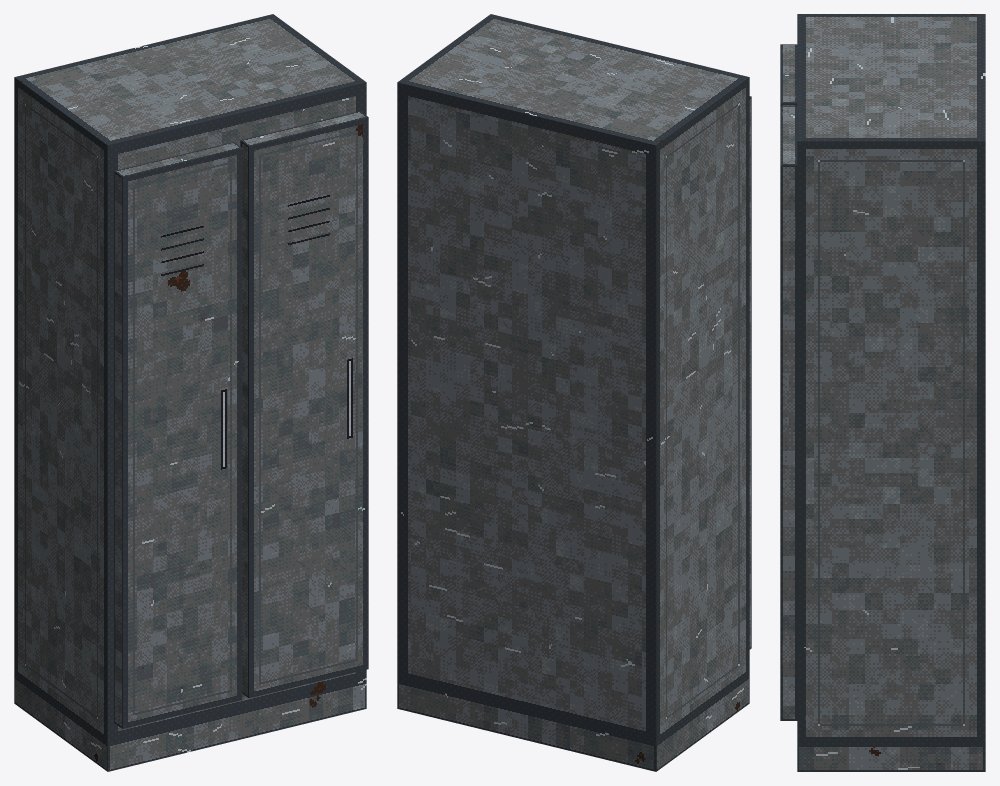
File: SM_Locker_Steel_01.glb
The picture shows the model from 3 angles, left to right: view 1: azimuth 30°, elevation 25°; view 2: azimuth 150°, elevation 25°; view 3: azimuth 270°, elevation 25°; orthographic projection.
Visible parts, largest first — view 1: SM_Locker_Steel_01; view 2: SM_Locker_Steel_01; view 3: SM_Locker_Steel_01.
Boxes of the visible parts, x1,y1,x2,y2 form: SM_Locker_Steel_01: [14, 14, 368, 771]; SM_Locker_Steel_01: [397, 14, 751, 771]; SM_Locker_Steel_01: [780, 14, 985, 771].
Size of the model in its own units: 0.8 by 1.85 by 0.545.
Materials: 1 (1 with a texture image).
